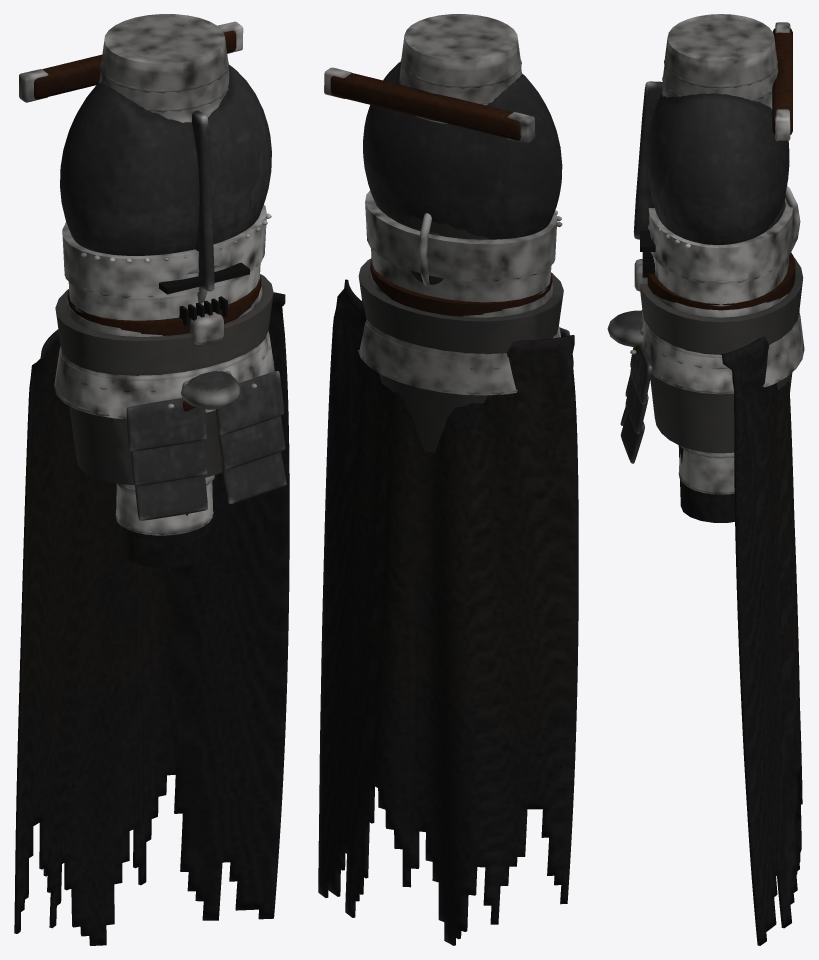
Rendered from hero.glb.
3 renders of one model, left to right at view 1: azimuth 30°, elevation 25°; view 2: azimuth 150°, elevation 25°; view 3: azimuth 270°, elevation 25°, orthographic. The views are drawn at different scales.
Visible parts, largest first — view 1: cloak, torso, pelvis, thigh, foot, head; view 2: cloak, torso, pelvis, head; view 3: torso, cloak, pelvis, thigh, foot, head.
Boxes of the visible parts, x1,y1,x2,y2 form: cloak: (14,292,289,945); torso: (19,14,271,320); pelvis: (54,274,286,520); thigh: (115,475,214,567); foot: (181,371,240,411); head: (159,262,249,326); cloak: (318,279,578,945); torso: (324,14,562,302); pelvis: (358,258,573,452); head: (410,213,443,286); torso: (633,14,793,306); cloak: (722,336,802,945); pelvis: (620,252,804,463); thigh: (678,445,734,522); foot: (607,310,643,354); head: (640,185,800,277).
Bounding box in the file's own units: 0.557 × 1.83 × 0.3829.
1 material, 1 textured.
